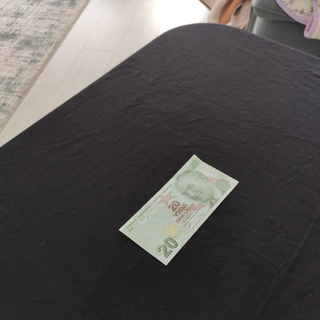20TLFront: (118, 153, 239, 265)
